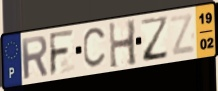C: (82, 25, 109, 70)
F: (48, 28, 76, 78)
H: (107, 18, 139, 71)
R: (20, 33, 50, 81)
Z: (139, 14, 170, 63), (168, 11, 196, 58)
